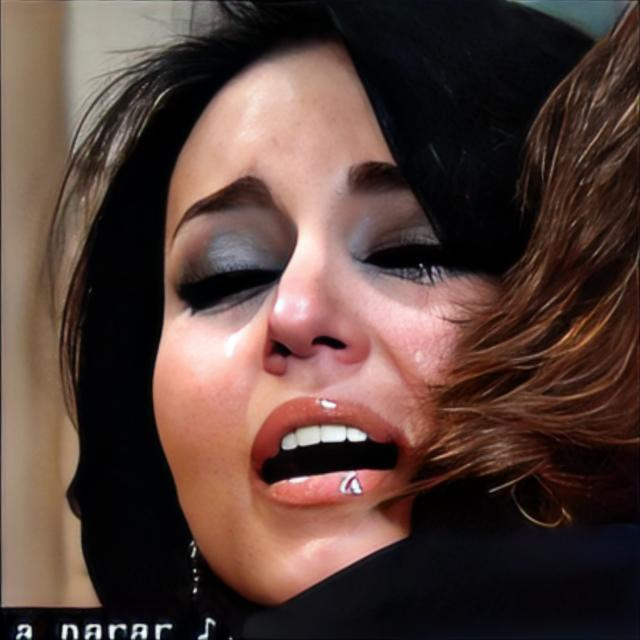sad: (149, 28, 521, 608)
